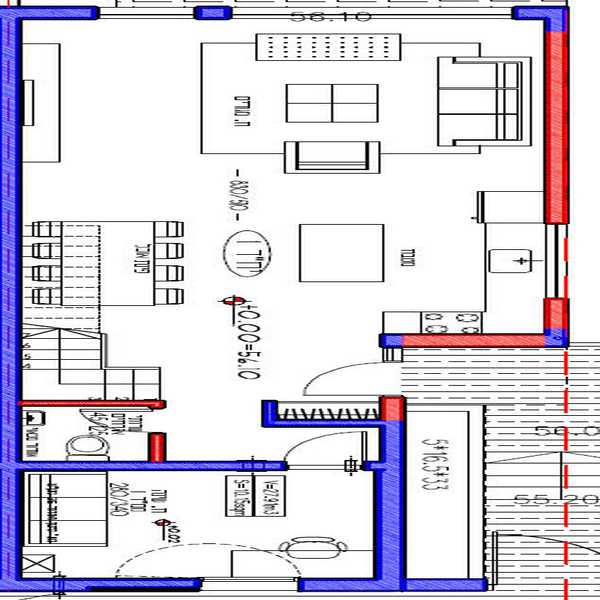door: (300, 355, 401, 404), (282, 426, 369, 472), (226, 544, 297, 582)
room: (1, 4, 572, 350), (1, 456, 407, 588)
wall: (1, 7, 23, 590), (541, 18, 571, 222), (376, 396, 405, 577), (297, 578, 487, 596), (378, 332, 548, 350), (20, 576, 206, 591), (15, 460, 289, 470), (12, 397, 164, 411), (21, 1, 99, 19), (544, 294, 569, 347), (269, 421, 379, 433), (142, 431, 172, 468), (190, 3, 236, 24), (515, 5, 571, 20), (261, 397, 284, 431)
window: (544, 224, 573, 296), (95, 4, 197, 23), (204, 577, 307, 595)
